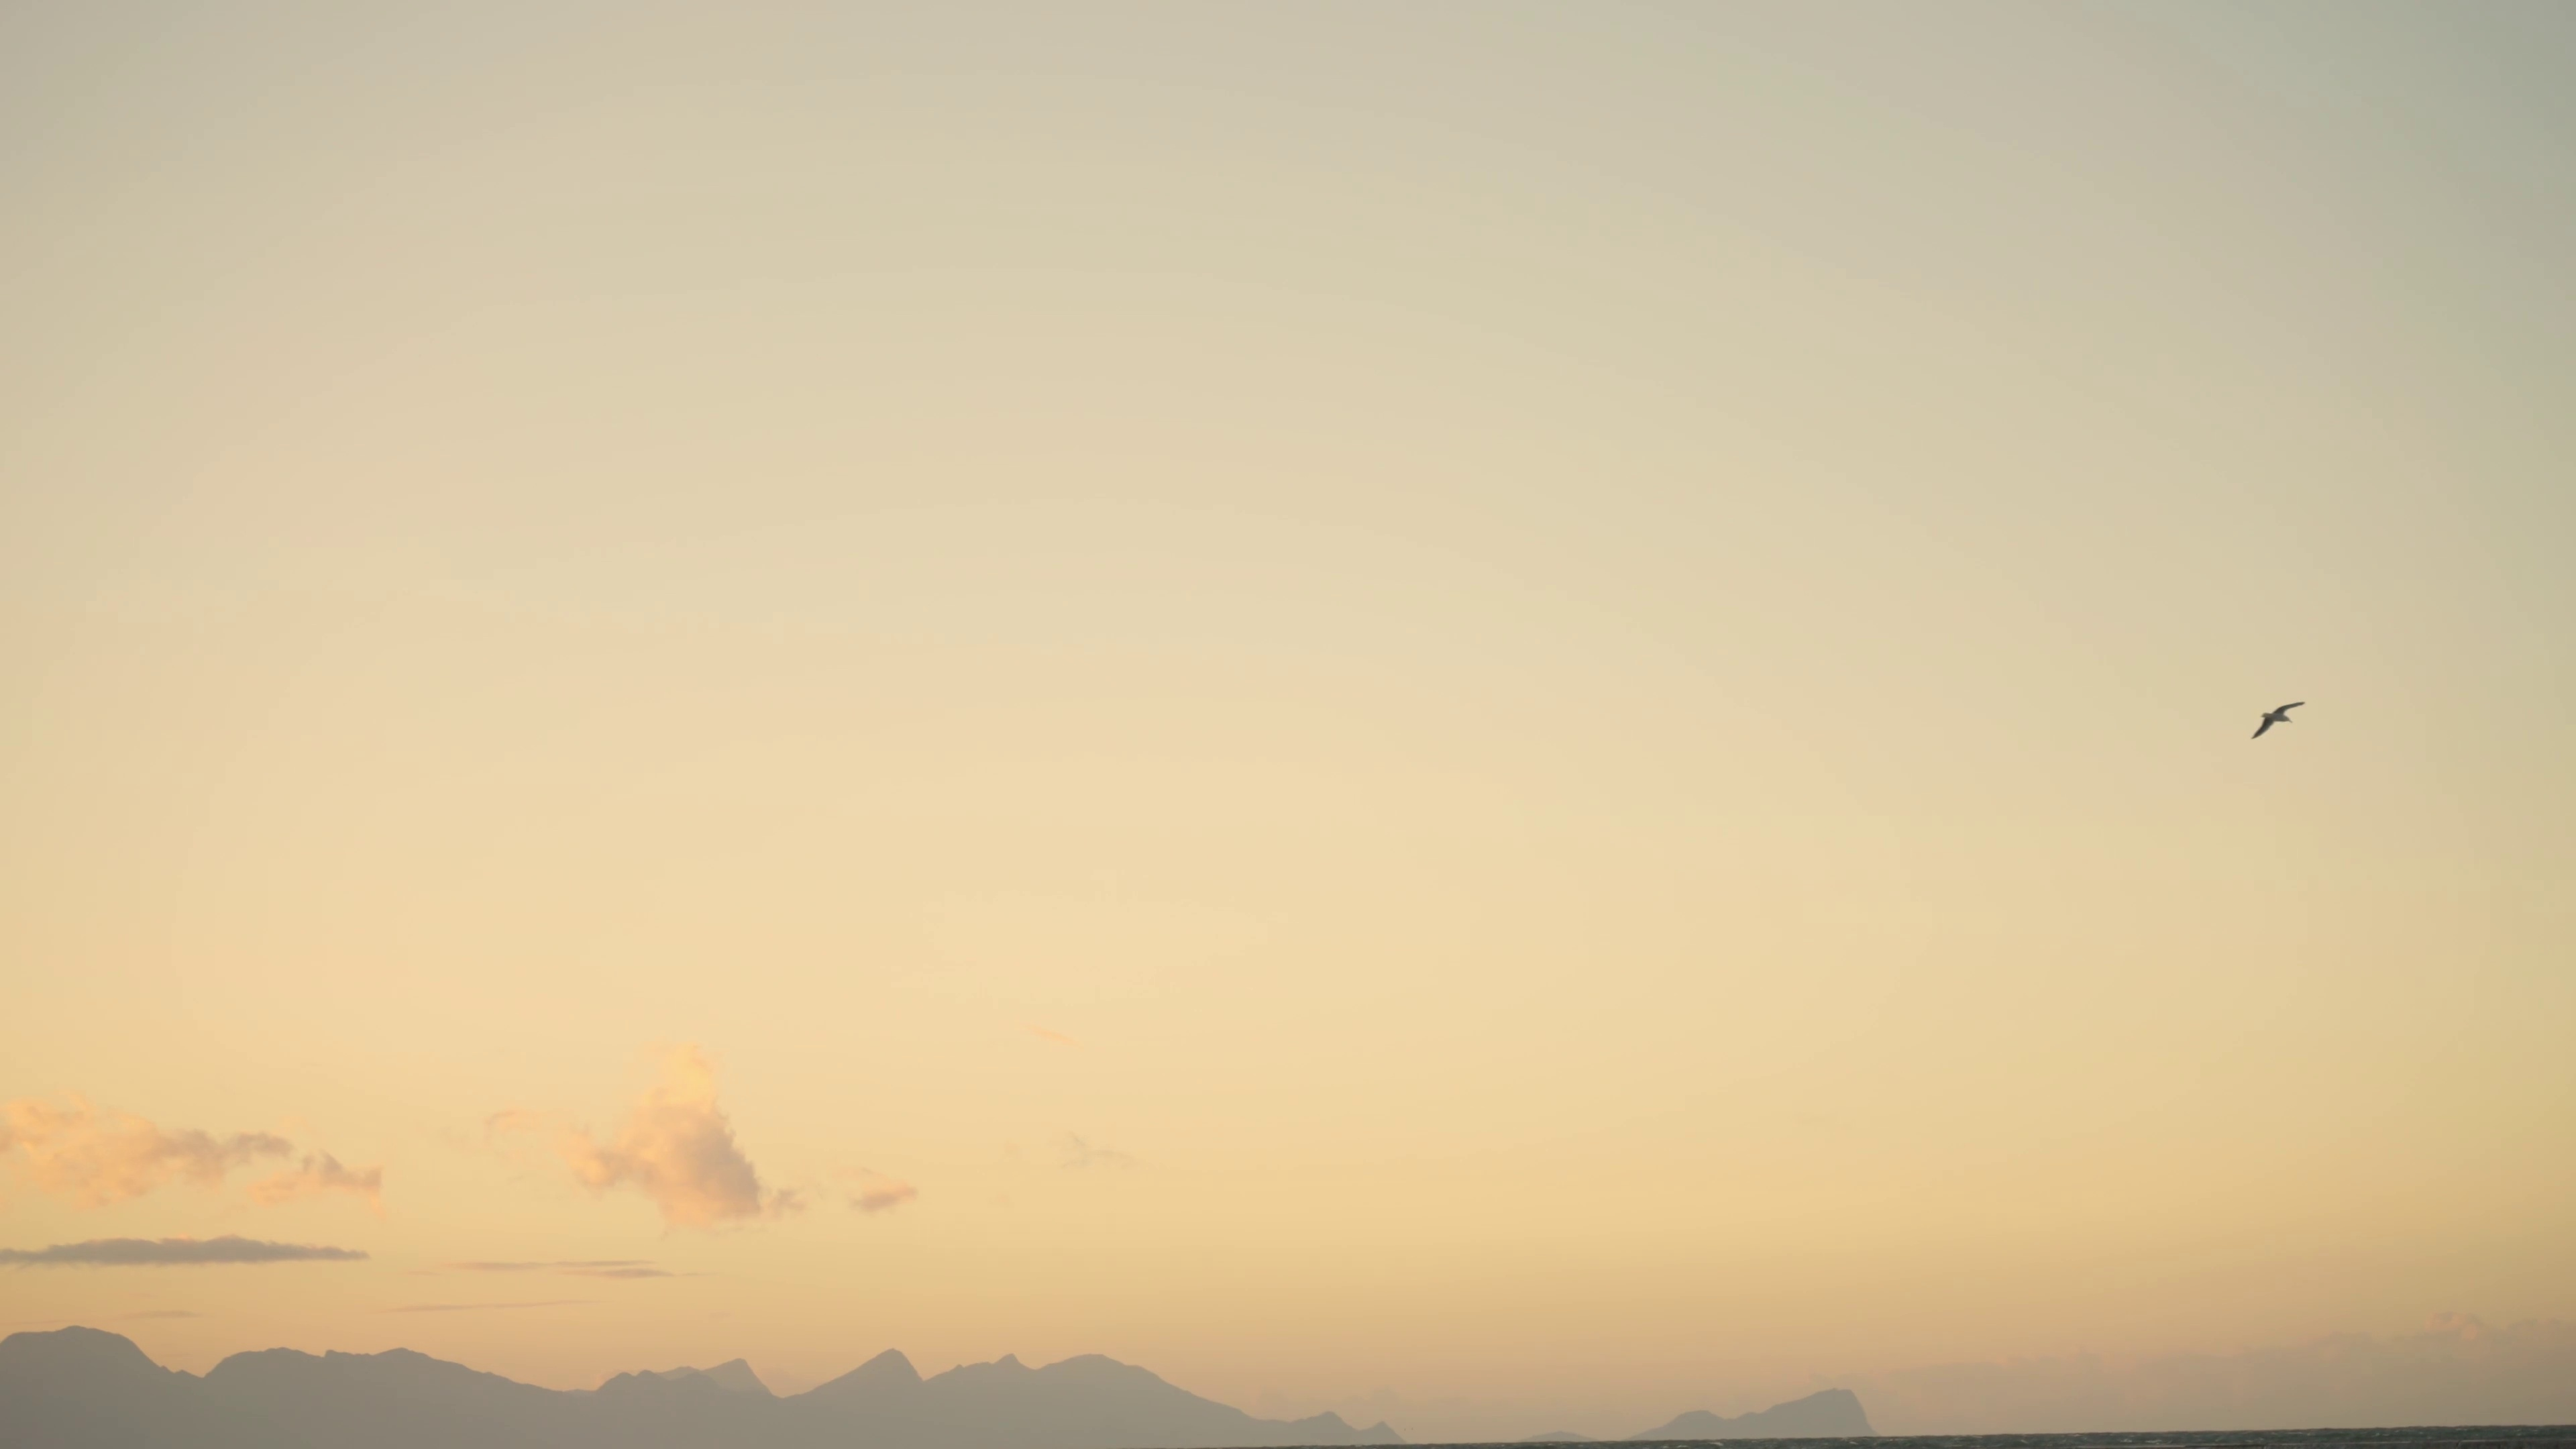bird: (2254, 702, 2305, 740)
